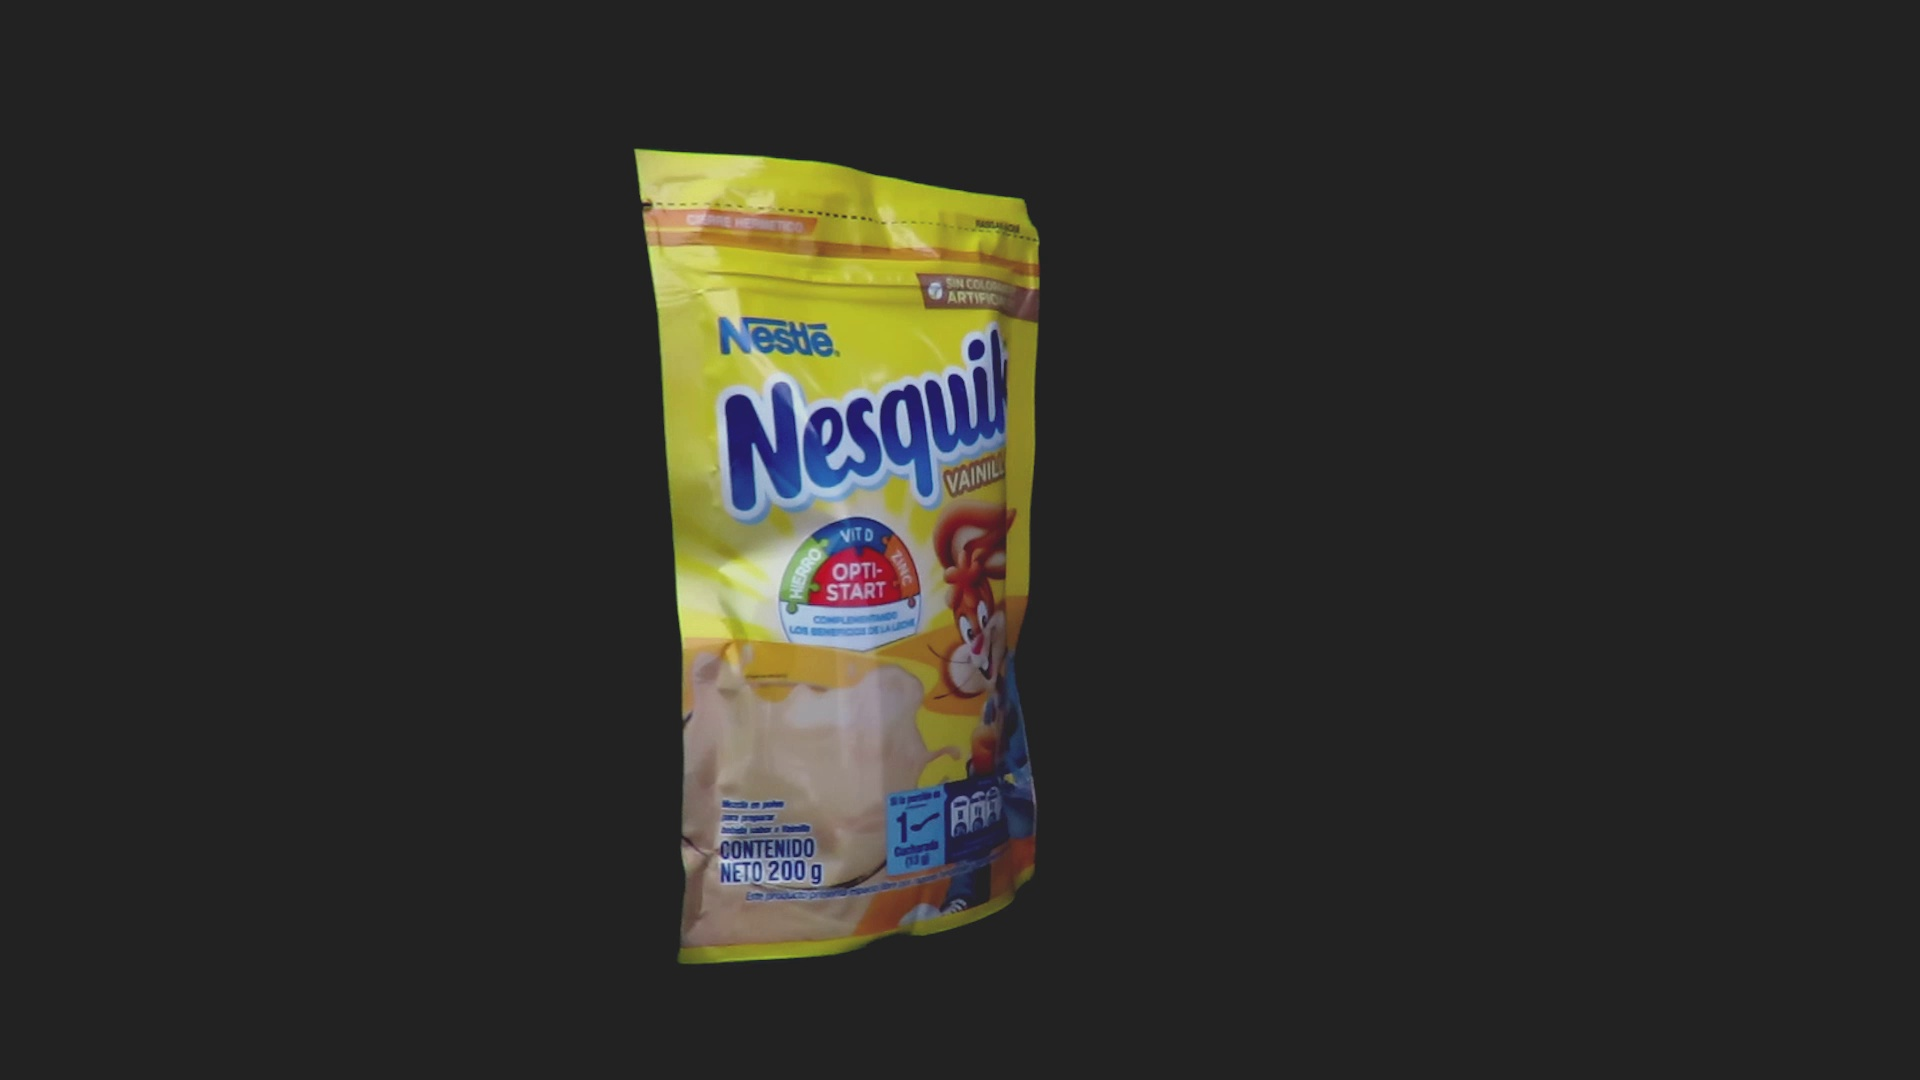COL0170306DYP20000: (629, 144, 1046, 971)
